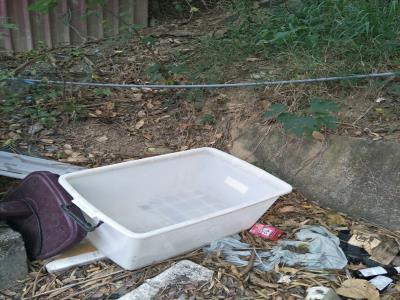box: (56, 143, 294, 273)
